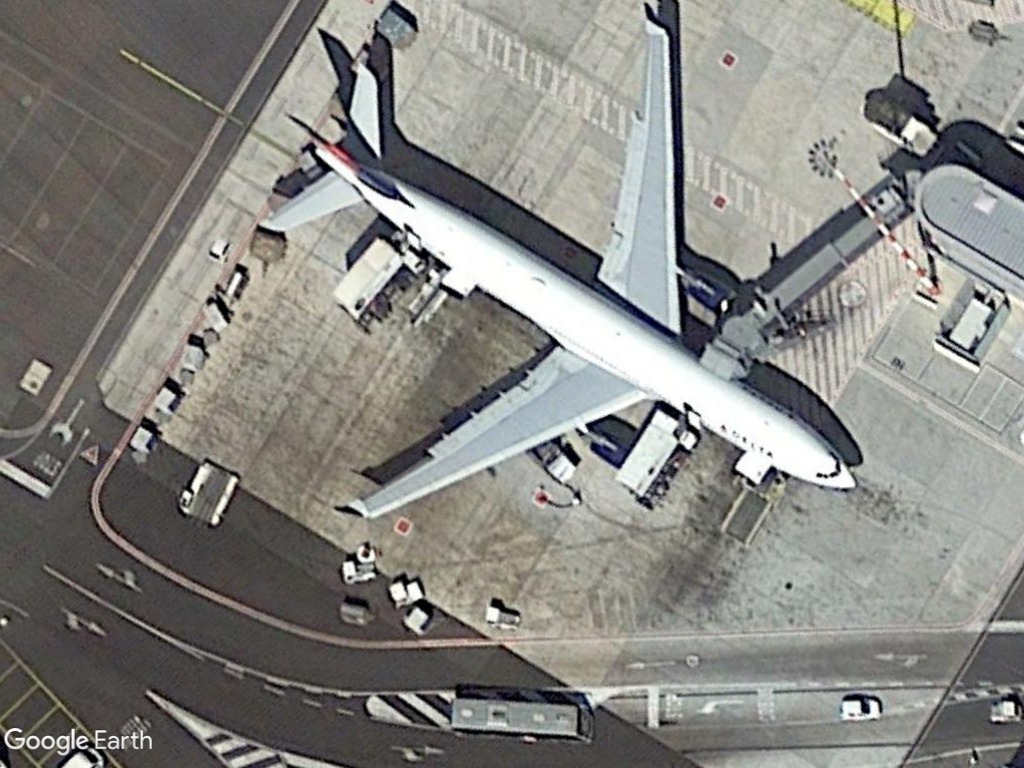airliner: (266, 5, 862, 520)
bus: (443, 691, 599, 746)
car: (835, 694, 883, 724)
other: (480, 601, 524, 635)
